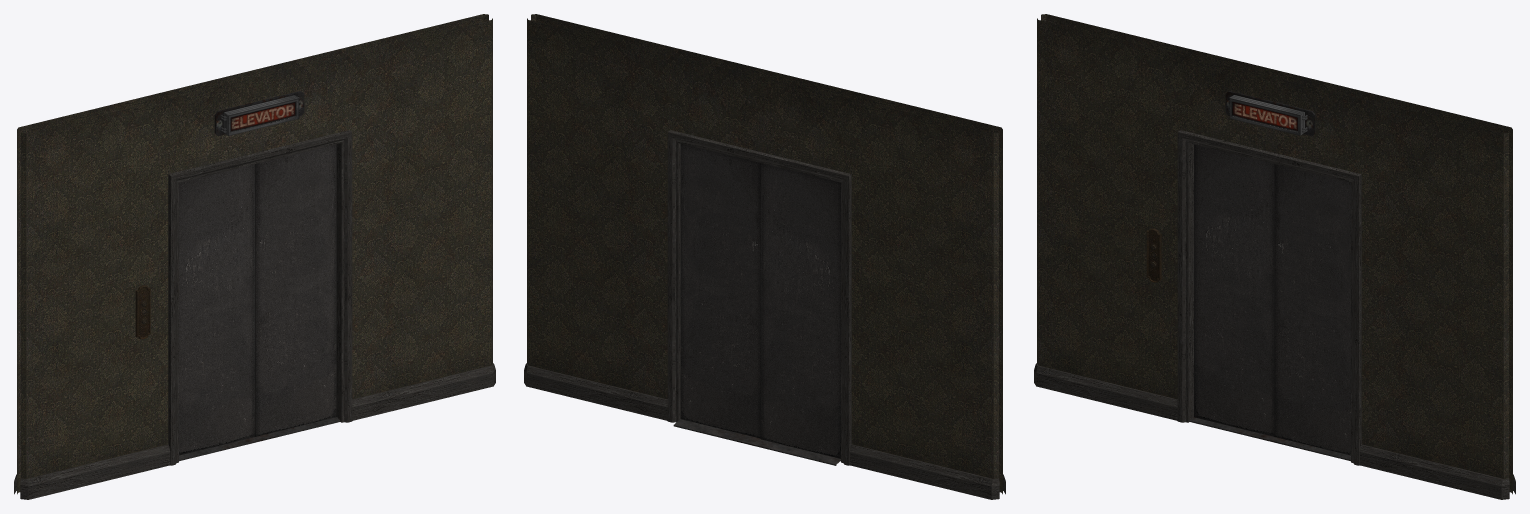
The model's file is elevator_doorway_2_1.glb.
3 renders of one model, left to right at view 1: azimuth 30°, elevation 25°; view 2: azimuth 150°, elevation 25°; view 3: azimuth 330°, elevation 25°, orthographic.
Parts seen in each view (by area): view 1: elevator_doorway_2_1, elevator_door_5_a, elevator_door_5_b; view 2: elevator_doorway_2_1, elevator_door_5_a, elevator_door_5_b; view 3: elevator_doorway_2_1, elevator_door_5_b, elevator_door_5_a.
Boxes of the visible parts, x1,y1,x2,y2 form: elevator_doorway_2_1: [14, 14, 495, 499]; elevator_door_5_a: [255, 144, 336, 436]; elevator_door_5_b: [179, 164, 254, 455]; elevator_doorway_2_1: [524, 14, 1005, 499]; elevator_door_5_a: [680, 143, 760, 438]; elevator_door_5_b: [761, 163, 840, 461]; elevator_doorway_2_1: [1034, 14, 1515, 499]; elevator_door_5_b: [1194, 144, 1274, 436]; elevator_door_5_a: [1274, 164, 1350, 455].
Size of the model in its own units: 4.09 by 3 by 0.29.
6 materials, 6 textured.
